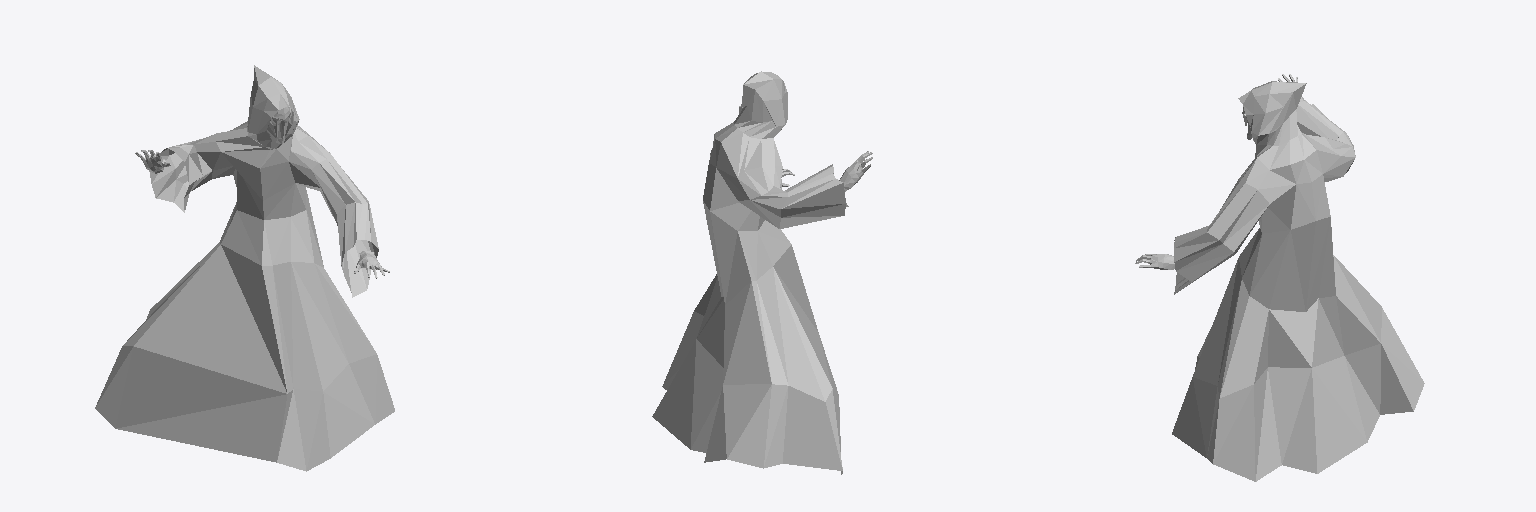
Rendered from ReaperAttack(56).obj.
3 renders of one model, left to right at view 1: azimuth 30°, elevation 25°; view 2: azimuth 150°, elevation 25°; view 3: azimuth 270°, elevation 25°, orthographic.
Visible parts, largest first — view 1: Plane003; view 2: Plane003; view 3: Plane003.
Boxes of the visible parts, x1,y1,x2,y2 form: Plane003: [95, 65, 394, 471]; Plane003: [652, 71, 872, 474]; Plane003: [1135, 74, 1424, 481].
Bounding box in the file's own units: 144 × 208 × 153.